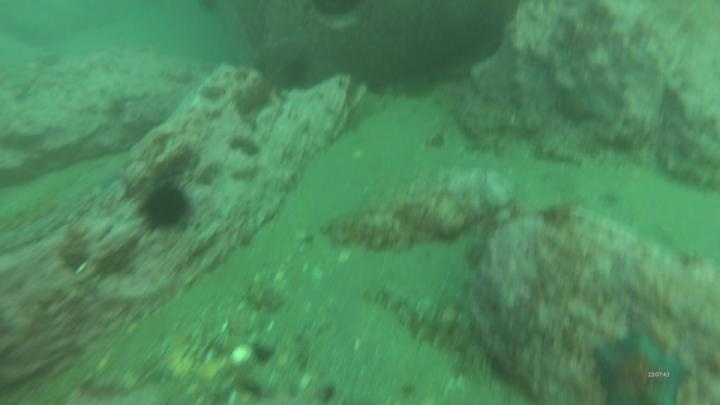echinus: (137, 179, 194, 235), (278, 54, 315, 93)
holothurian: (367, 279, 491, 370), (322, 206, 419, 255)
starfish: (590, 326, 693, 405), (553, 83, 605, 128)
